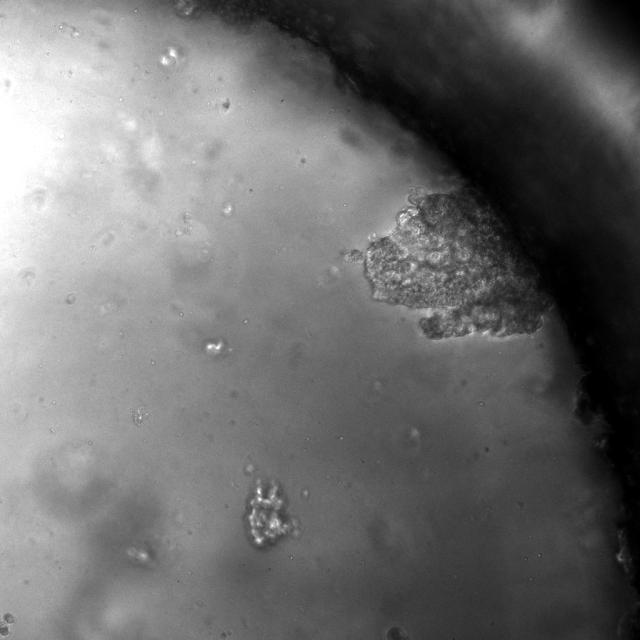organoid: (359, 187, 551, 338), (245, 479, 296, 548)
